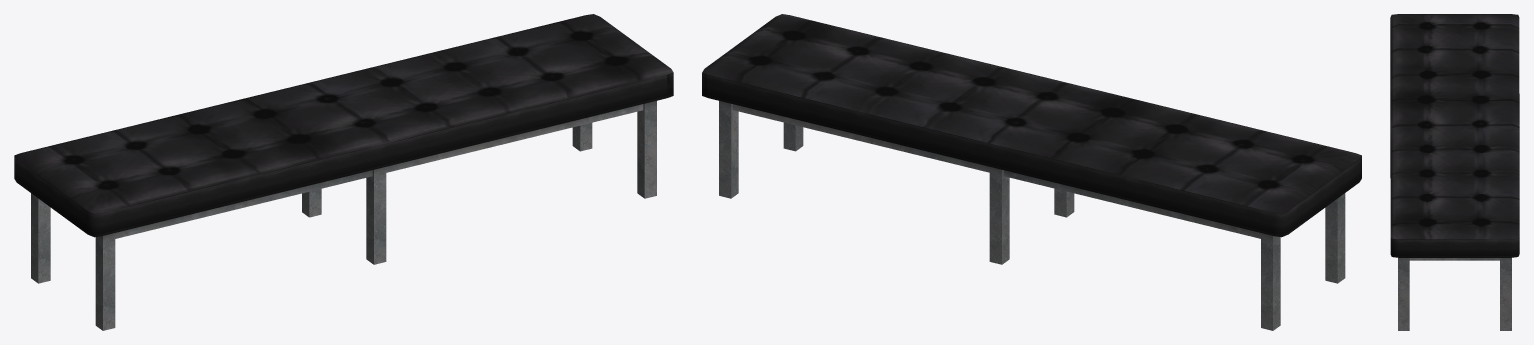
File: p_jun_officebench_lod1.glb
The picture shows the model from 3 angles, left to right: view 1: azimuth 30°, elevation 25°; view 2: azimuth 150°, elevation 25°; view 3: azimuth 270°, elevation 25°; orthographic projection. The views are drawn at different scales.
Visible parts, largest first — view 1: surf0; view 2: surf0; view 3: surf0.
Part boxes in pixels (x1,y1,x2,y2): surf0: (14,14,673,330); surf0: (702,14,1361,330); surf0: (1390,14,1519,330).
Size of the model in its own units: 85.62 by 17.72 by 20.73.
